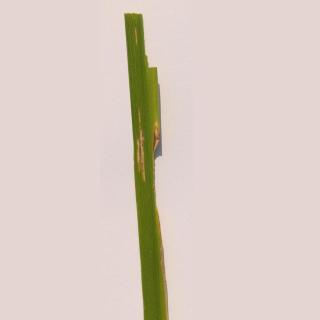Hawar-Daun: (119, 25, 170, 204)
